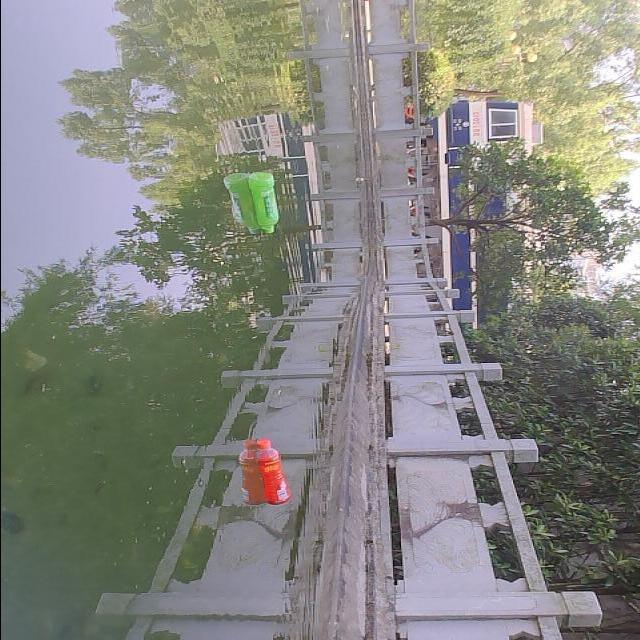Bottle: (240, 434, 298, 512), (237, 165, 284, 239)
